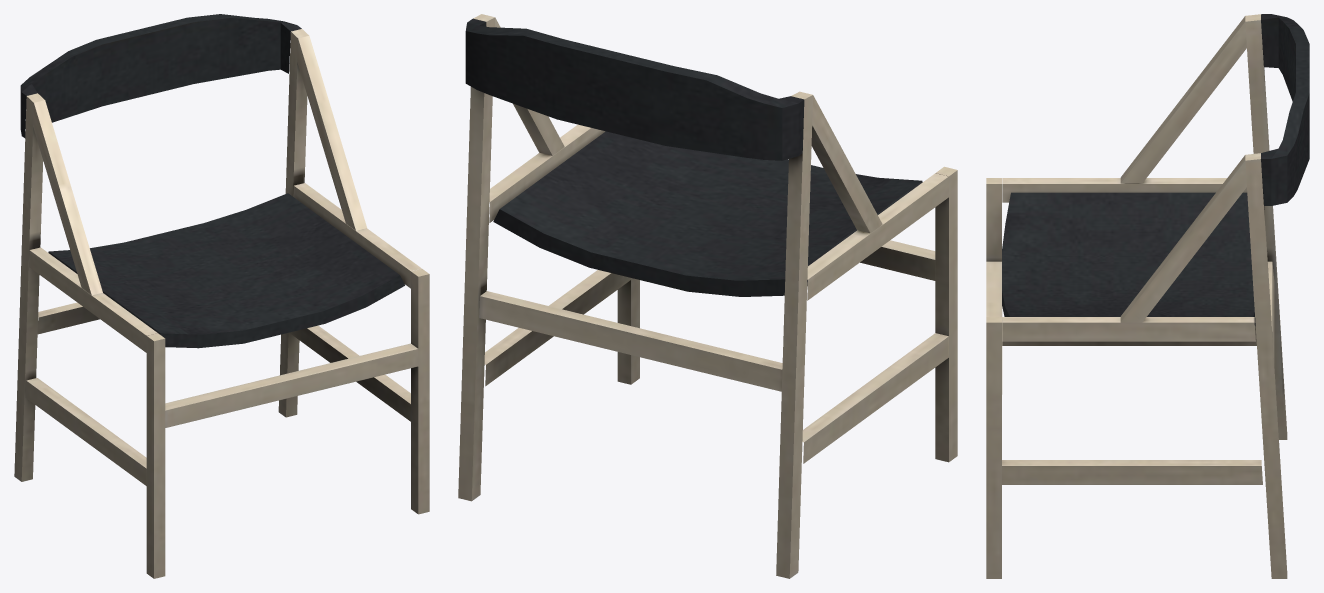
File: Chair_Cafe.gltf
3 renders of one model, left to right at view 1: azimuth 30°, elevation 25°; view 2: azimuth 150°, elevation 25°; view 3: azimuth 270°, elevation 25°, orthographic. The views are drawn at different scales.
Parts seen in each view (by area): view 1: caffeChair; view 2: caffeChair; view 3: caffeChair.
Part boxes in pixels (x1=…): caffeChair: x1=14, y1=14, x2=429, y2=578; caffeChair: x1=458, y1=14, x2=957, y2=578; caffeChair: x1=986, y1=14, x2=1309, y2=578.
Bounding box in the file's own units: 5.92 × 8.35 × 5.58.
Materials: 1 (1 with a texture image).
